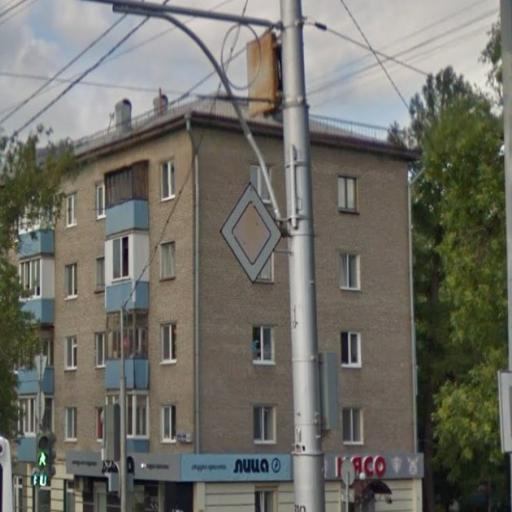traffic_sign: (219, 183, 285, 285)
